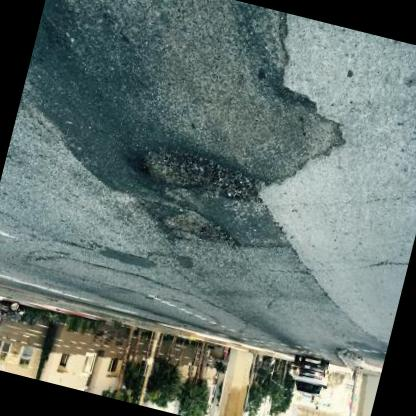pothole: (132, 136, 272, 214), (158, 204, 250, 255)
